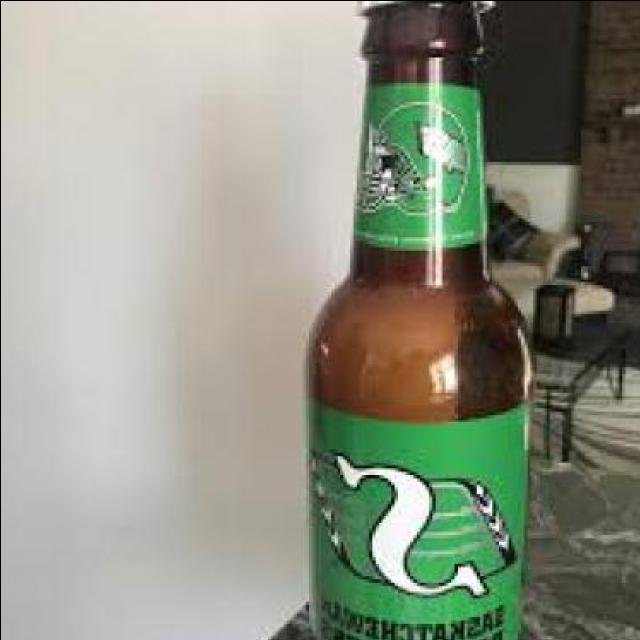kaca: (308, 0, 539, 640)
